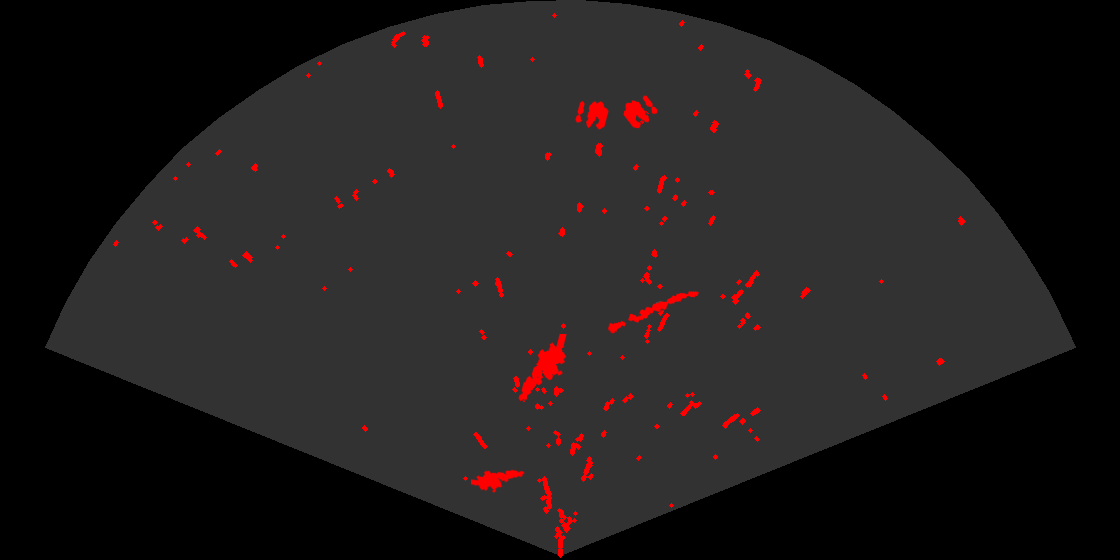ball: (622, 94, 659, 130), (574, 99, 610, 131)
chain: (606, 289, 700, 335)
frogman: (517, 334, 568, 403), (471, 468, 525, 495)
